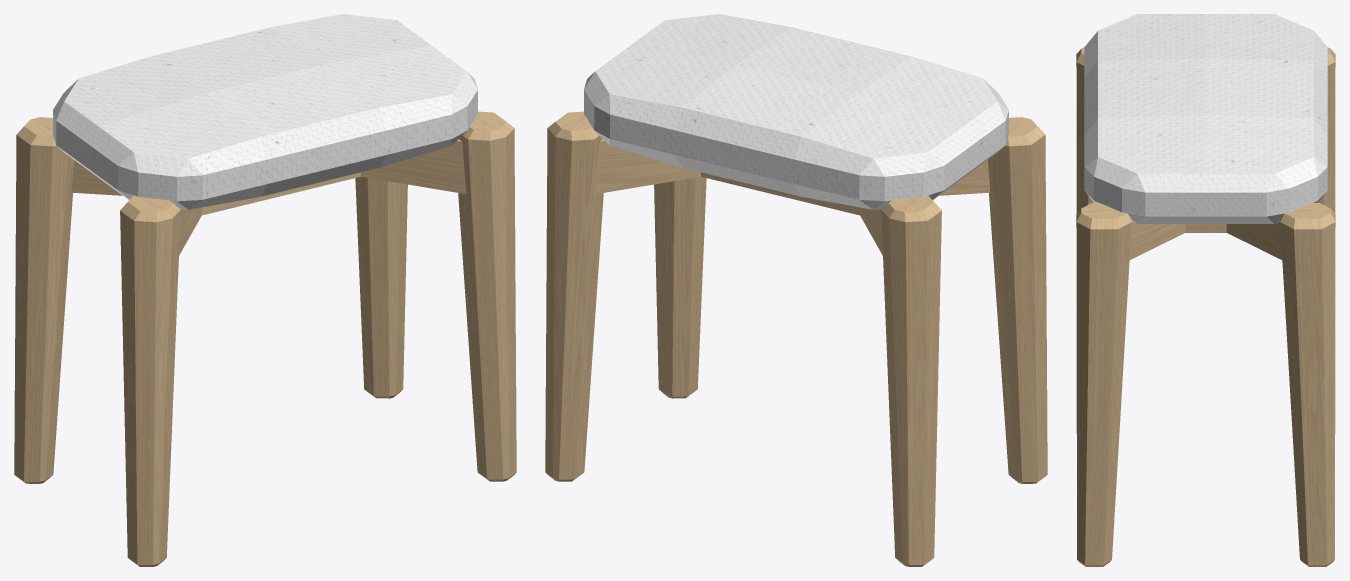
File: chair.gltf
3 views of the same model, side by side, from view 1: azimuth 30°, elevation 25°; view 2: azimuth 150°, elevation 25°; view 3: azimuth 270°, elevation 25° (orthographic).
Parts seen in each view (by area): view 1: guide.001; view 2: guide.001; view 3: guide.001.
Part boxes in pixels (x1,y1,x2,y2): guide.001: [14, 14, 516, 566]; guide.001: [545, 14, 1047, 566]; guide.001: [1076, 14, 1335, 566].
Size of the model in its own units: 0.5 by 0.5 by 0.3.
2 materials, 2 textured.
